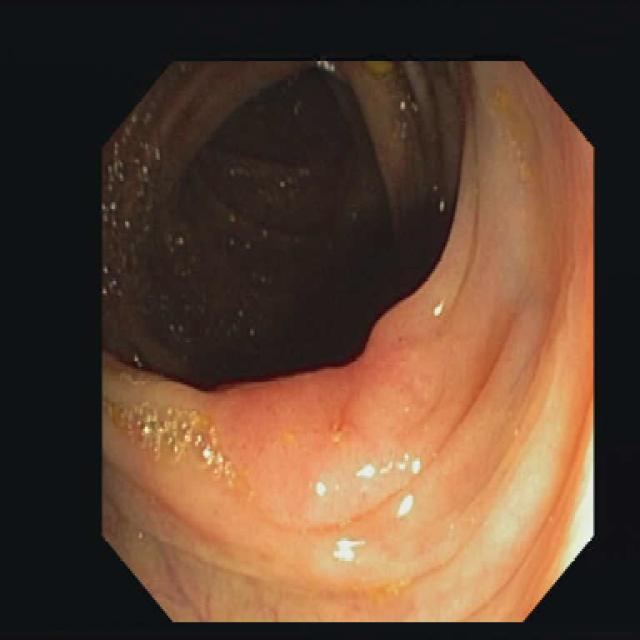tumor: (207, 297, 470, 507)
